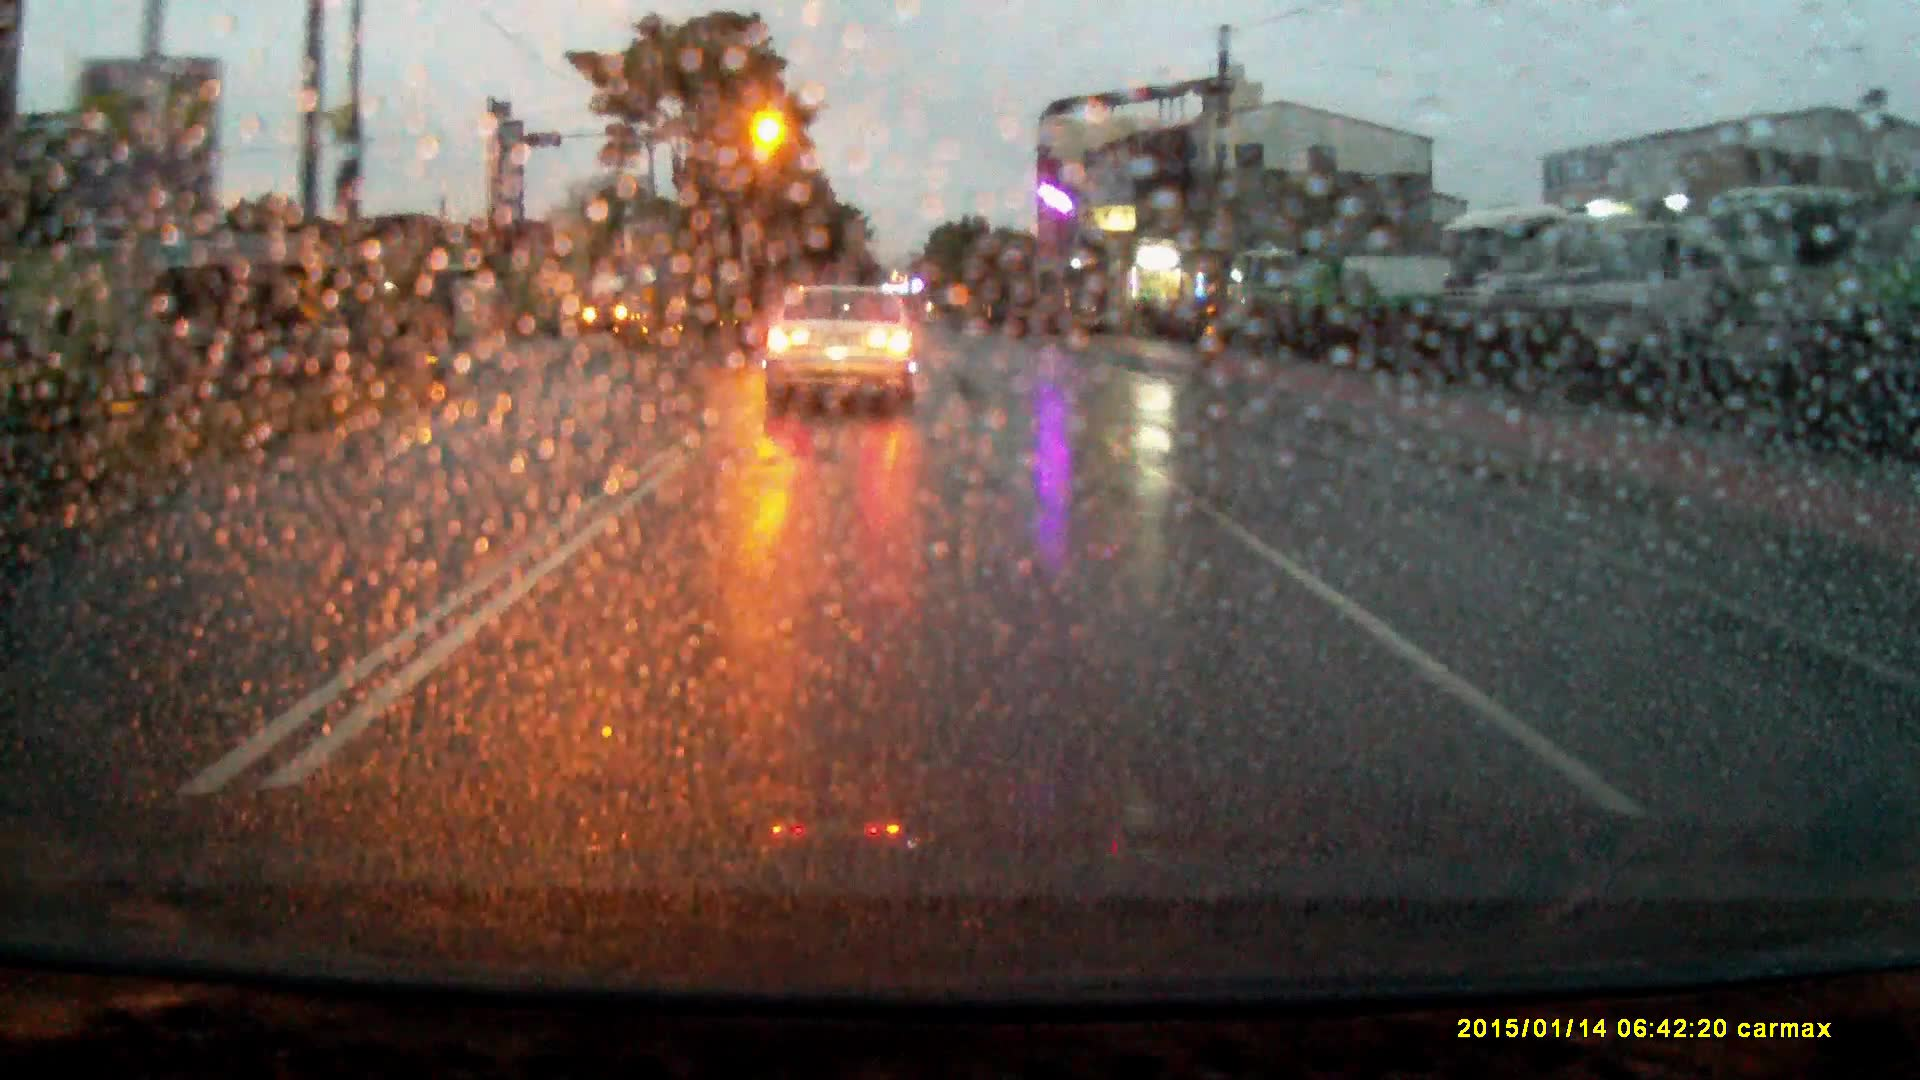vehicle: (1702, 183, 1862, 413), (1551, 220, 1718, 398), (762, 284, 922, 415), (1443, 207, 1557, 364), (1276, 253, 1453, 336), (1228, 244, 1302, 328), (585, 277, 644, 331)
